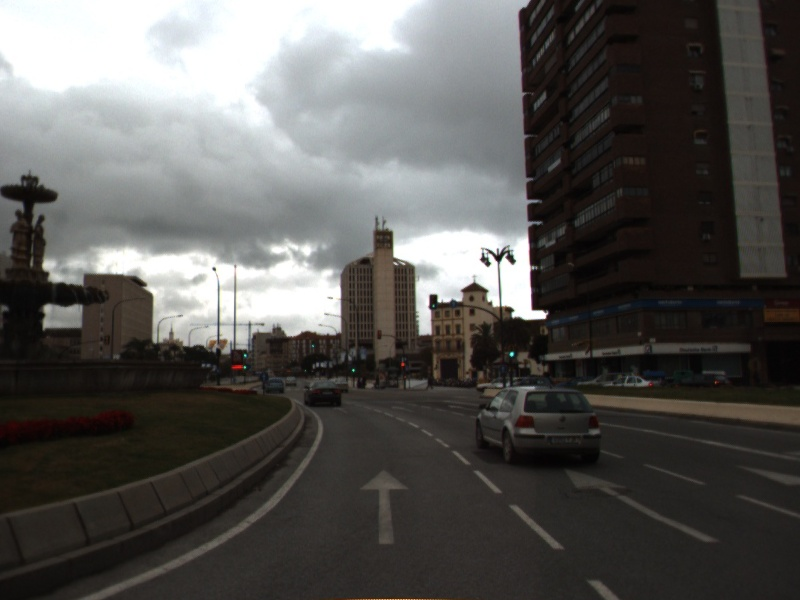STRAIGHT: (562, 466, 723, 545), (357, 466, 412, 547)
